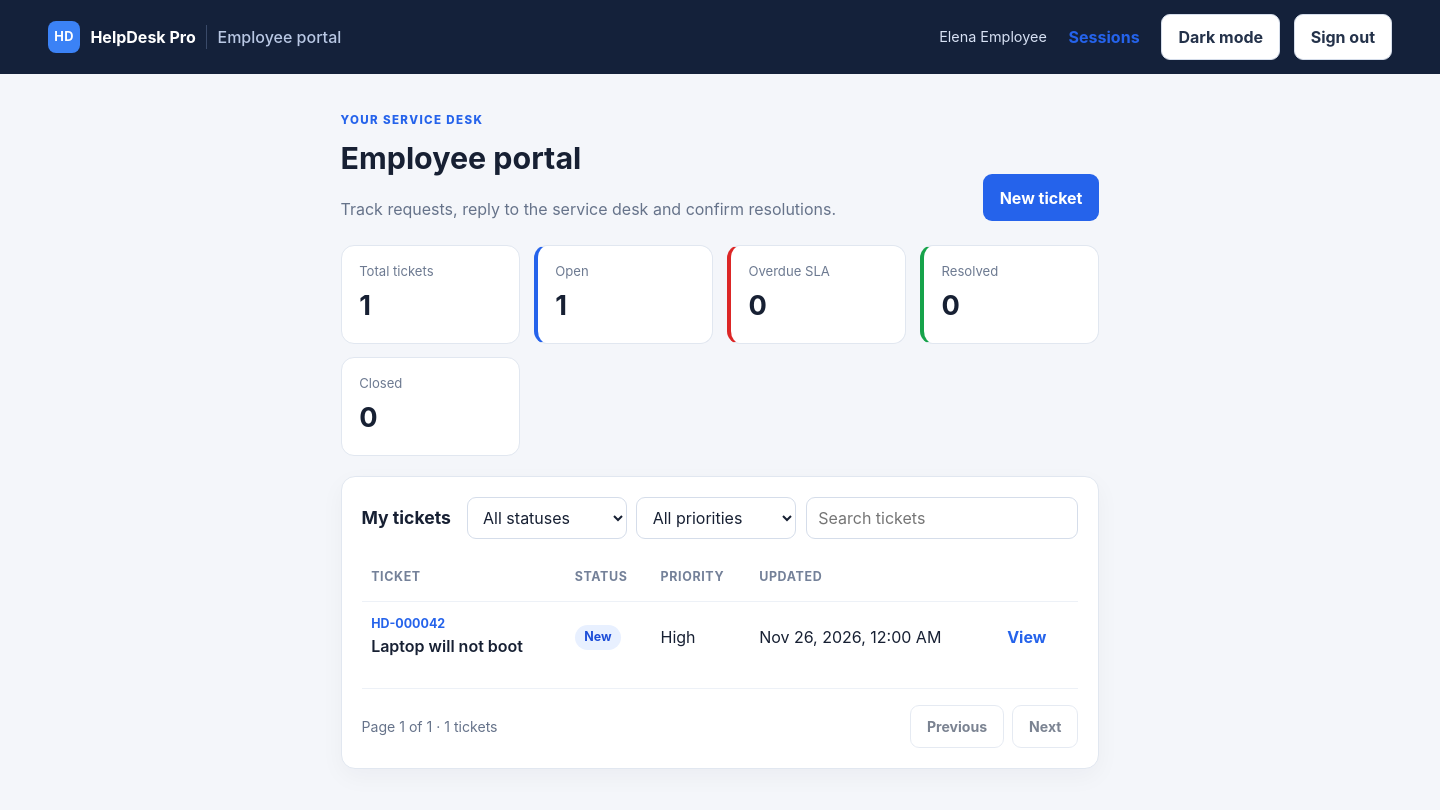
Test: employee portal › returns to sign-in when an action receives a 401
Expected: the text "HD-000042" is shown, [371, 616, 445, 631]
Step 1. Click the button "View" → (1027, 637), box [999, 619, 1055, 654]
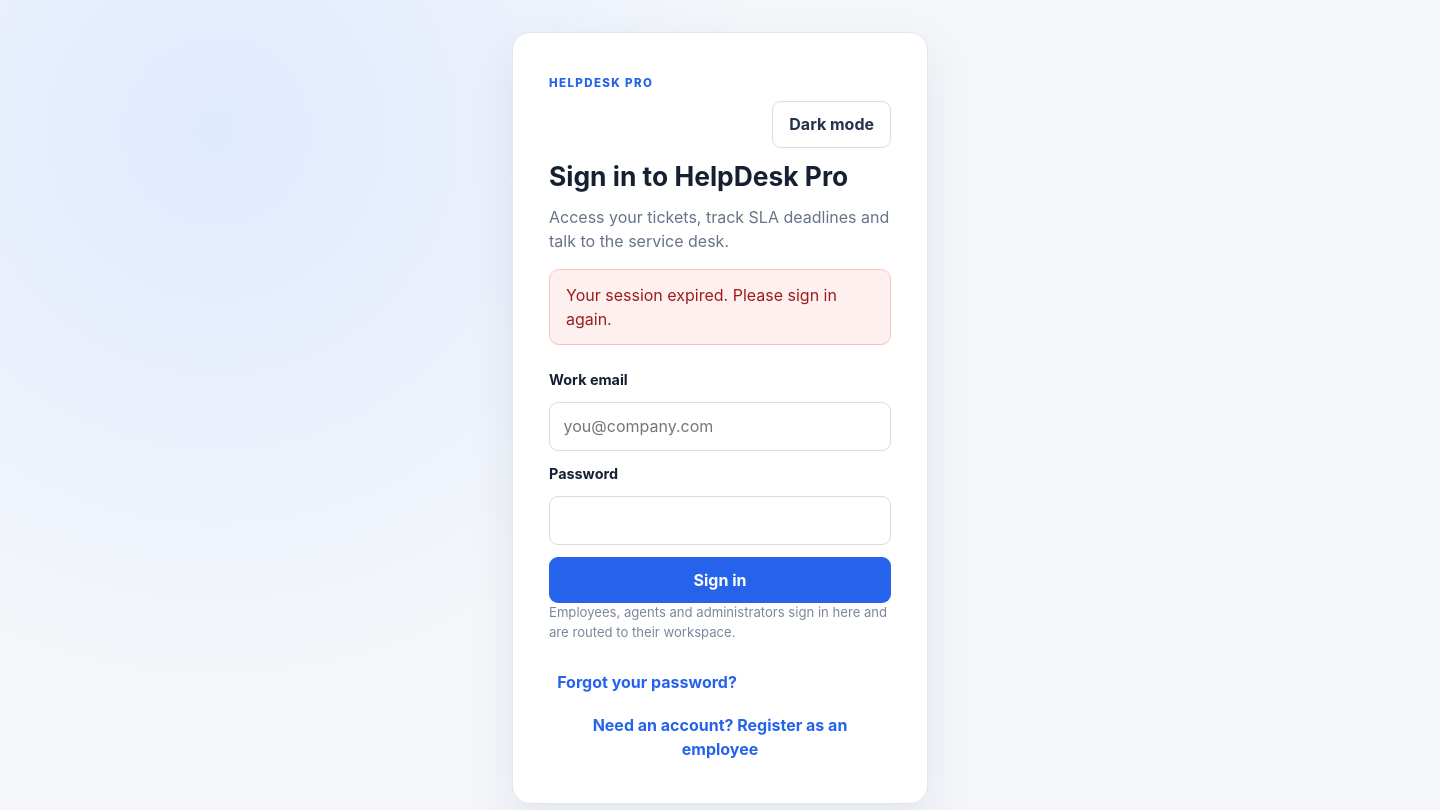
Now the heading "Sign in to HelpDesk Pro" is shown, box [549, 157, 891, 197]
Now the message shows "session expired", box [566, 285, 837, 329]
